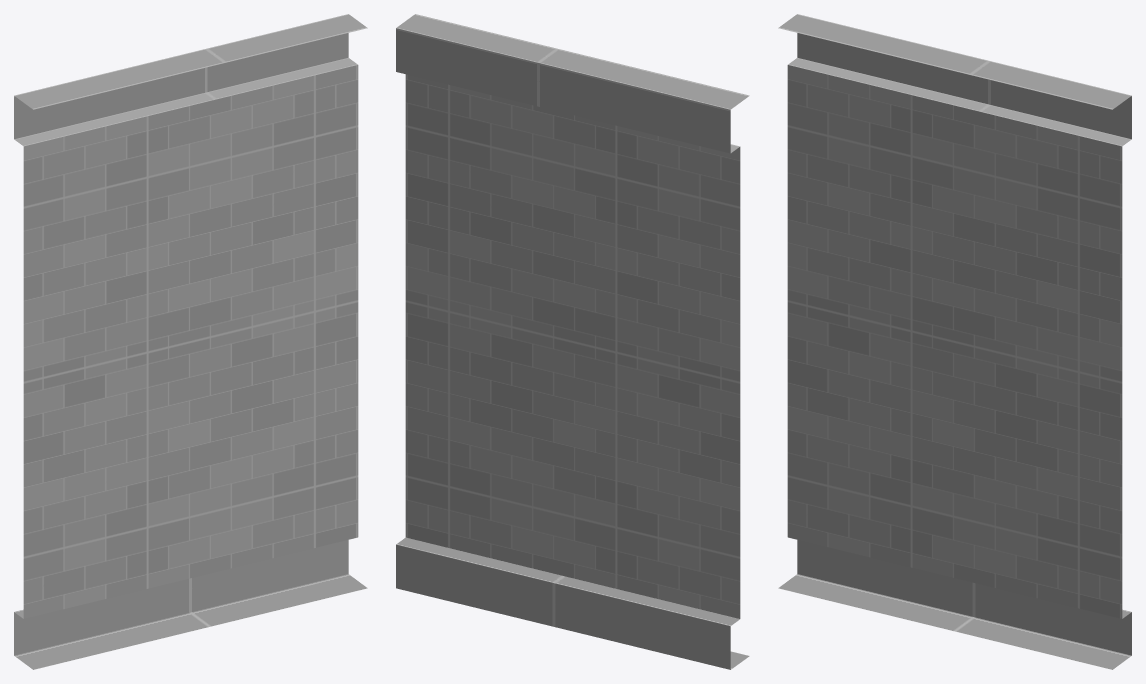
Rendered from proto_wall_01.fbx.
3 views of the same model, side by side, from view 1: azimuth 30°, elevation 25°; view 2: azimuth 150°, elevation 25°; view 3: azimuth 330°, elevation 25° (orthographic).
Parts seen in each view (by area): view 1: proto_wall_01; view 2: proto_wall_01; view 3: proto_wall_01.
Part boxes in pixels (x1,y1,x2,y2): proto_wall_01: (14, 14, 367, 669); proto_wall_01: (396, 14, 749, 669); proto_wall_01: (778, 14, 1131, 669).
Size of the model in its own units: 200 by 320 by 20.
